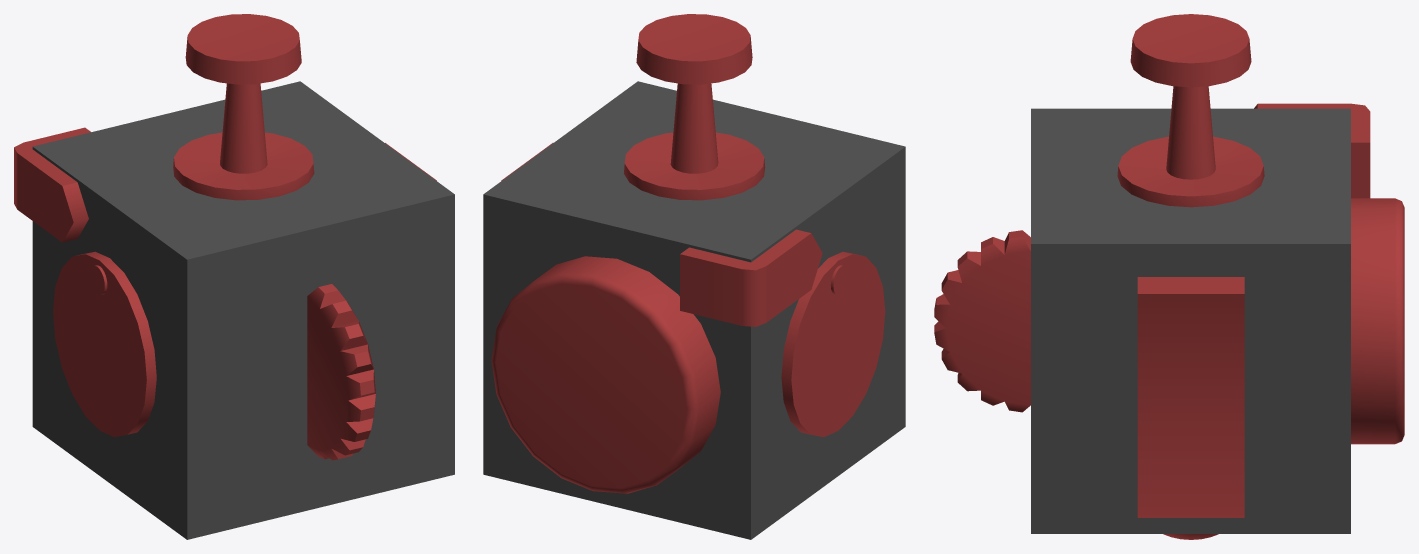
File: fidgetCube.fbx
The picture shows the model from 3 angles, left to right: view 1: azimuth 30°, elevation 25°; view 2: azimuth 150°, elevation 25°; view 3: azimuth 270°, elevation 25°; orthographic projection. The views are drawn at different scales.
Parts seen in each view (by area): view 1: frontDoor, topDoor, leftDoor, joyStick, wheel_horizontal, wheel_vertical, latch; view 2: button, topDoor, backDoor, leftDoor, joyStick, wheel_horizontal, latch; view 3: rightDoor, topDoor, switch_, joyStick, wheel_vertical, button, latch.
Part boxes in pixels (left/top/right/bottom): frontDoor: left=187, top=194, right=454, bottom=539; topDoor: left=33, top=81, right=454, bottom=259; leftDoor: left=32, top=147, right=187, bottom=539; joyStick: left=173, top=14, right=314, bottom=200; wheel_horizontal: left=53, top=251, right=156, bottom=437; wheel_vertical: left=307, top=284, right=375, bottom=460; latch: left=14, top=127, right=90, bottom=242; button: left=491, top=256, right=720, bottom=493; topDoor: left=483, top=81, right=905, bottom=259; backDoor: left=483, top=194, right=750, bottom=539; leftDoor: left=751, top=147, right=905, bottom=539; joyStick: left=624, top=14, right=765, bottom=200; wheel_horizontal: left=781, top=251, right=885, bottom=437; latch: left=680, top=229, right=822, bottom=326; rightDoor: left=1031, top=244, right=1350, bottom=533; topDoor: left=1031, top=108, right=1350, bottom=243; switch_: left=1137, top=277, right=1244, bottom=517; joyStick: left=1117, top=14, right=1264, bottom=207; wheel_vertical: left=934, top=230, right=1030, bottom=412; button: left=1351, top=198, right=1404, bottom=444; latch: left=1254, top=103, right=1370, bottom=198.
Size of the model in its own units: 1.18 by 1.7 by 1.47.
